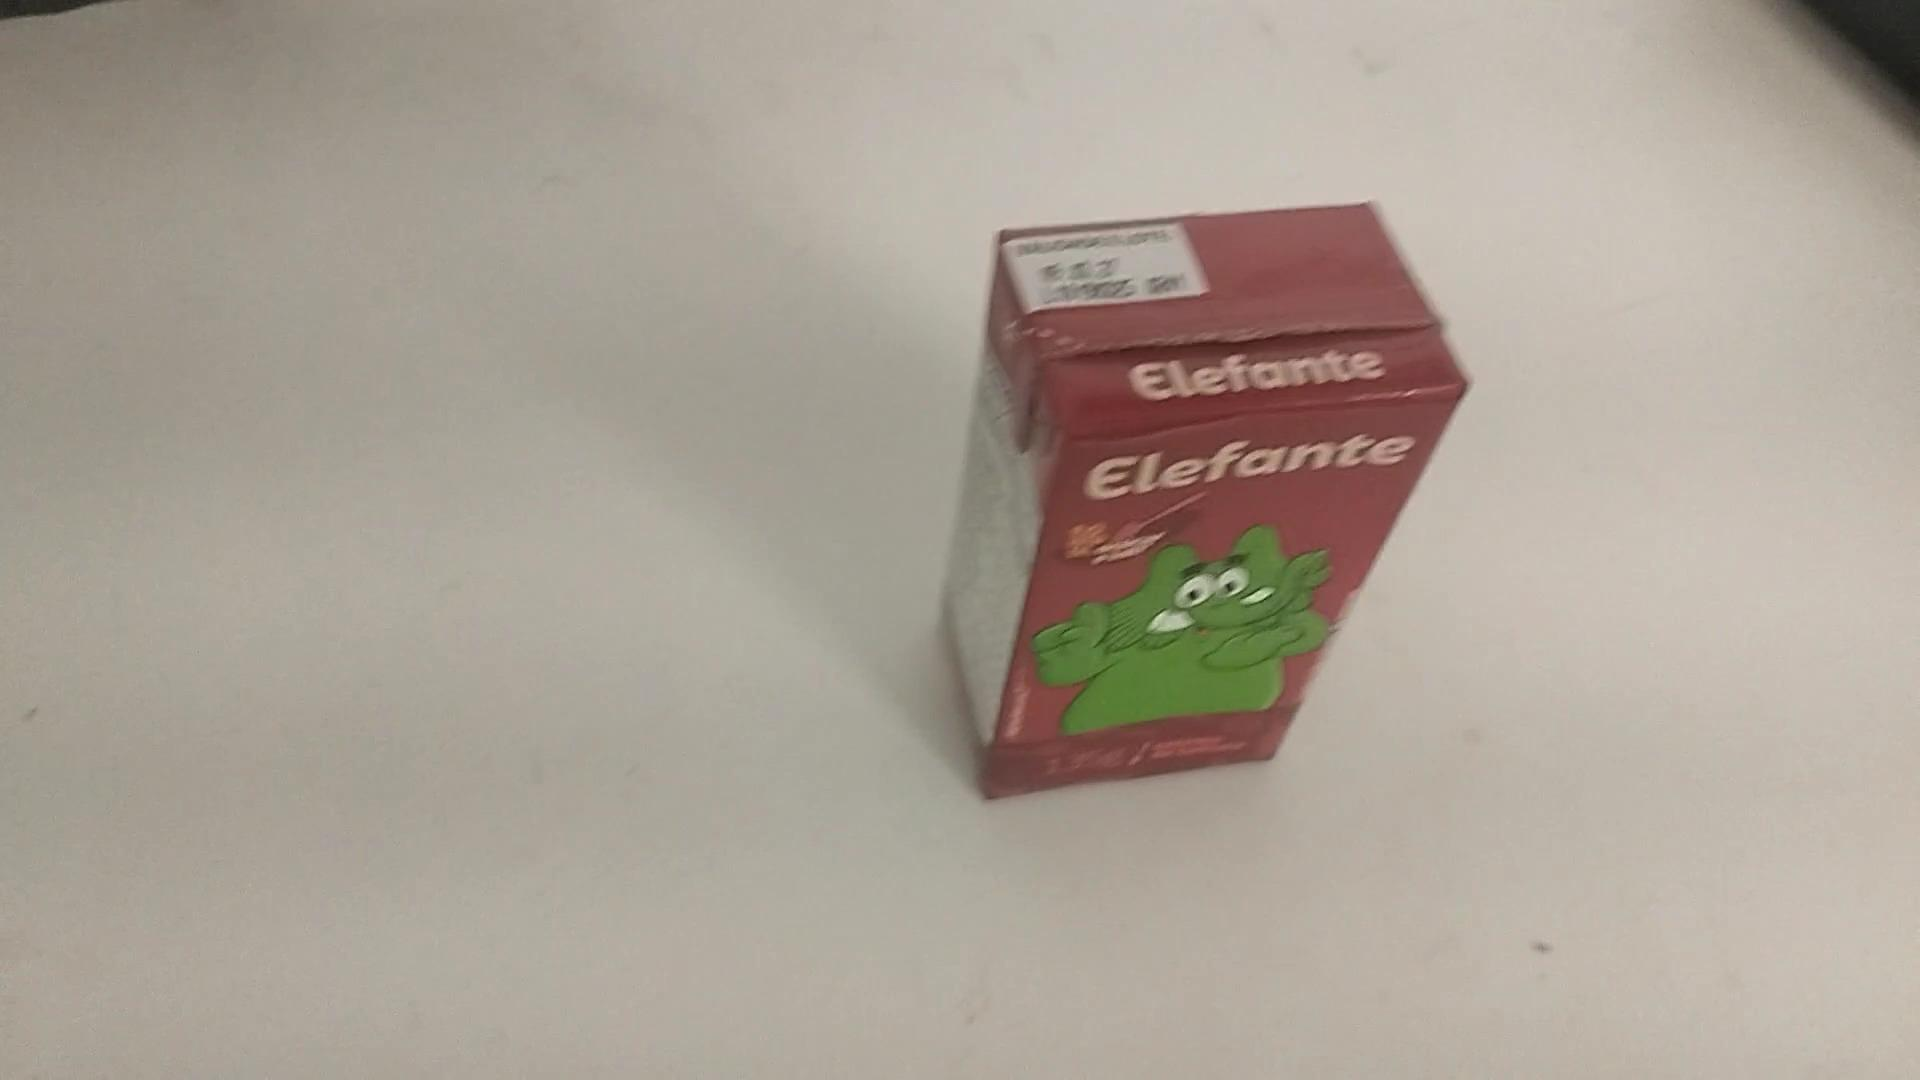tomate: (926, 187, 1482, 810)
